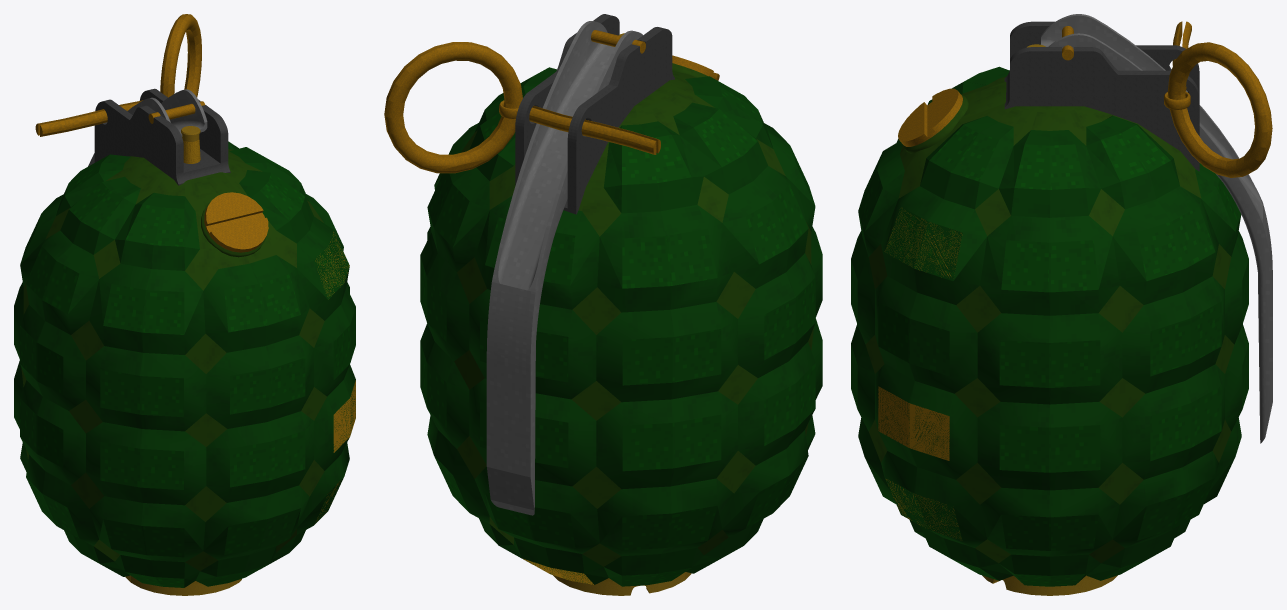
The model's file is Mills bomb (Canadian).dae.
3 renders of one model, left to right at view 1: azimuth 30°, elevation 25°; view 2: azimuth 150°, elevation 25°; view 3: azimuth 270°, elevation 25°, orthographic. The views are drawn at different scales.
Parts seen in each view (by area): view 1: GRENADE_ (×37), Part1, ring (×2); view 2: GRENADE_ (×35), Part1, ring (×2); view 3: GRENADE_ (×32), Part1, ring (×2).
Boxes of the visible parts, box(x1,y1,x2,y2) form: GRENADE_ (×37): box(14, 89, 355, 595); Part1: box(94, 88, 230, 185); ring (×2): box(160, 14, 201, 97); GRENADE_ (×35): box(420, 21, 822, 595); Part1: box(515, 14, 674, 214); ring (×2): box(384, 42, 522, 173); GRENADE_ (×32): box(851, 14, 1272, 595); Part1: box(1004, 21, 1199, 171); ring (×2): box(1167, 42, 1272, 177).
Bounding box in the file's own units: 2.49 × 2.64 × 3.86.
